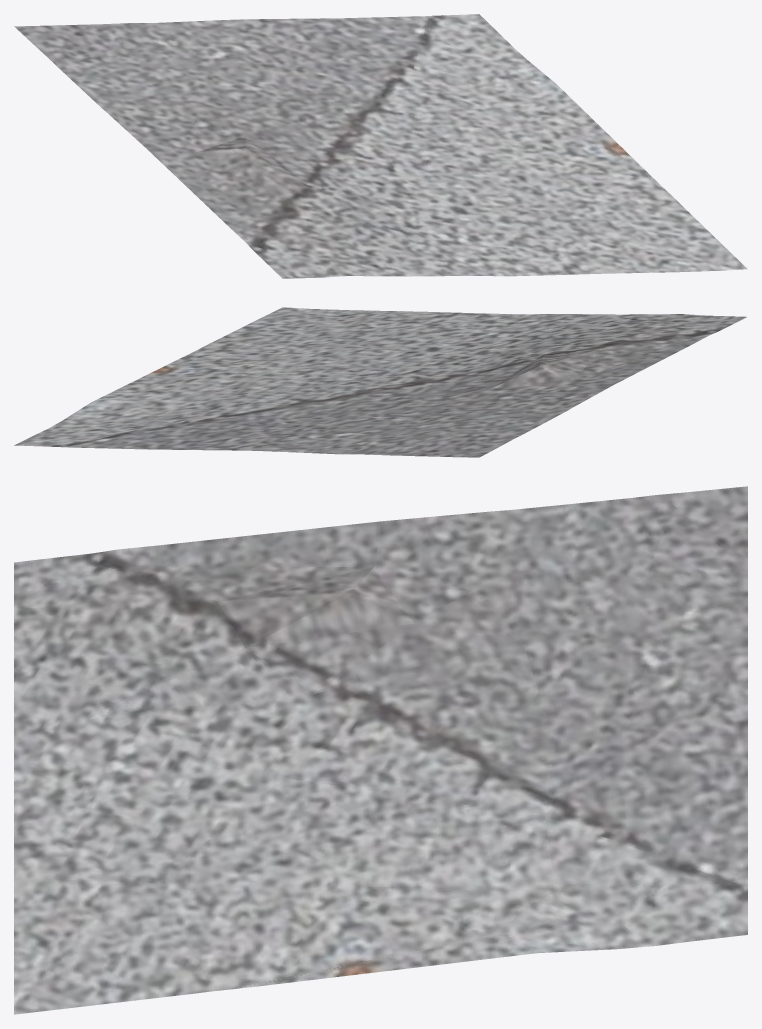
3 renders of one model, top to bottom at view 1: azimuth 30°, elevation 25°; view 2: azimuth 150°, elevation 25°; view 3: azimuth 270°, elevation 25°, orthographic. The views are drawn at different scales.
Size of the model in its own units: 0.8374 by 0.2747 by 0.8373.
3 materials, 3 textured.
